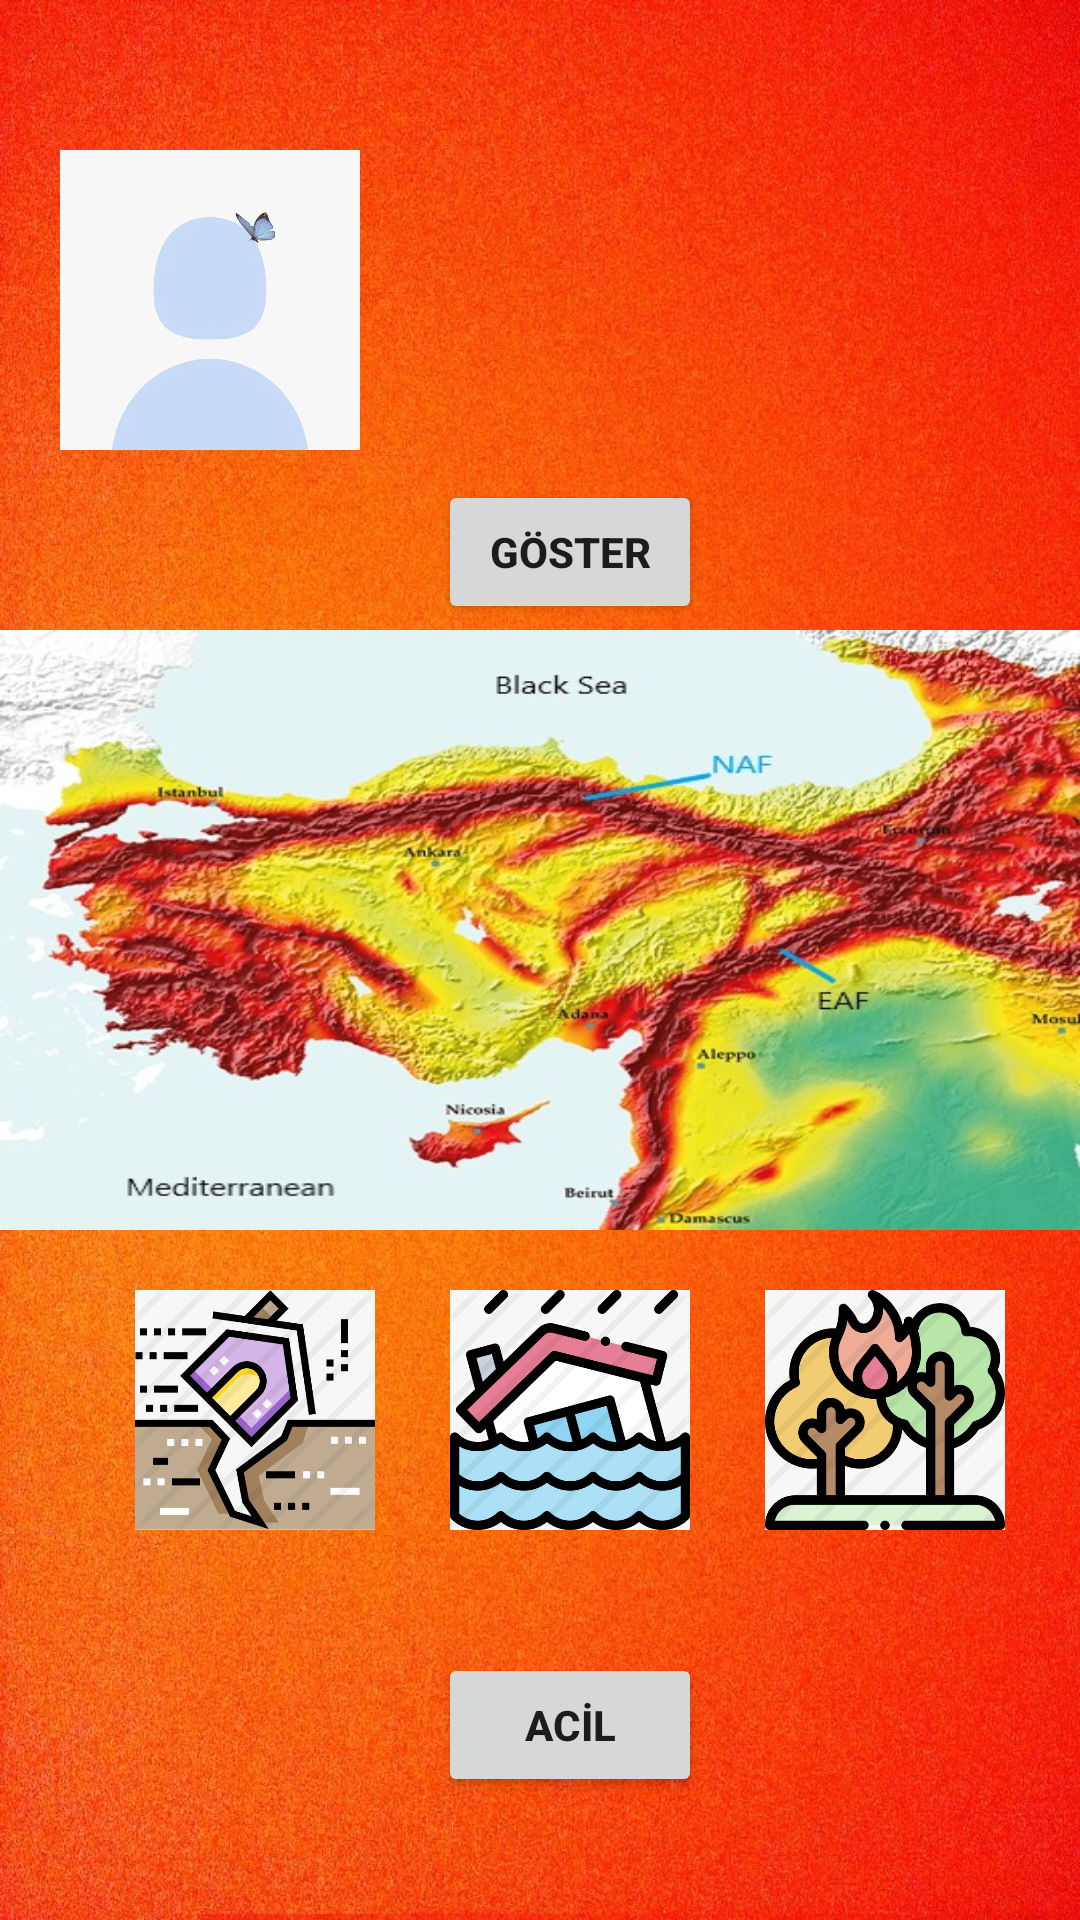

Point at icon controls on the screen. Image size 1080px×1920px, points as (x=x, y=y).
deprem: (x=255, y=1410)
profile: (x=210, y=300)
sel: (x=570, y=1410)
